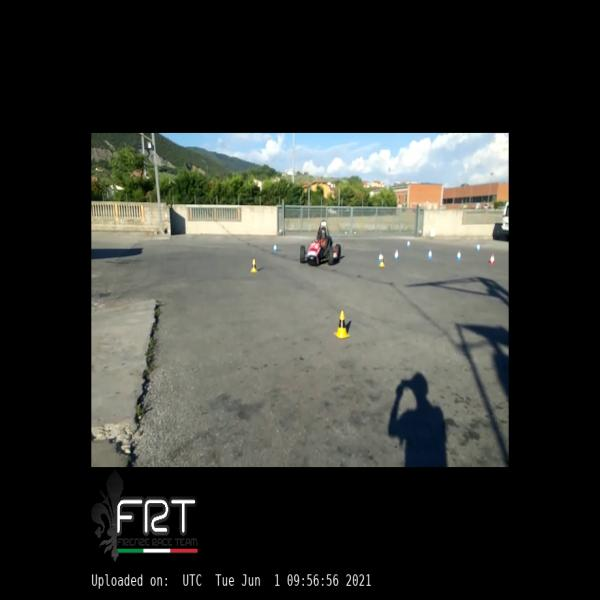blue_cone: (474, 242, 481, 253), (456, 249, 462, 260), (272, 243, 278, 253), (378, 252, 383, 262), (406, 239, 411, 249), (394, 249, 398, 259), (428, 249, 432, 258)
orange_cone: (488, 252, 494, 264)
yellow_cone: (334, 311, 349, 338), (250, 259, 257, 272), (380, 255, 384, 267)
